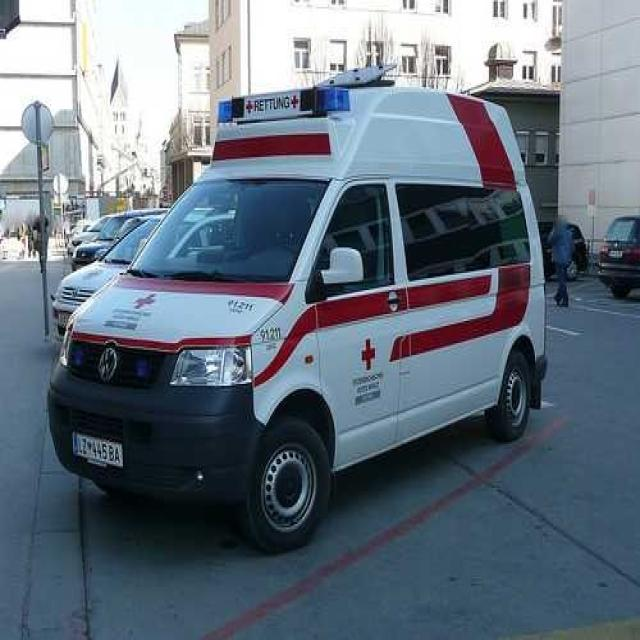ambulance: (45, 97, 549, 525)
